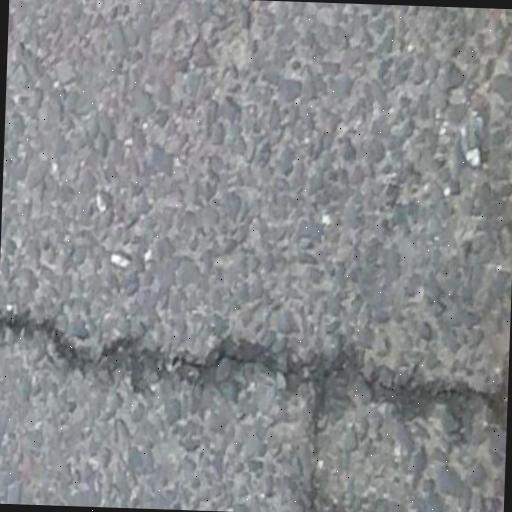spalling: (6, 297, 504, 428)
